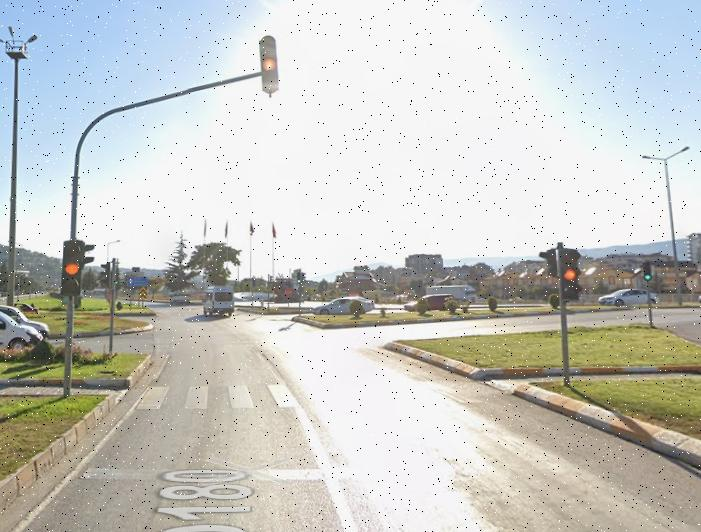yellowlight: (558, 248, 579, 295), (260, 39, 278, 88), (65, 241, 81, 292)
